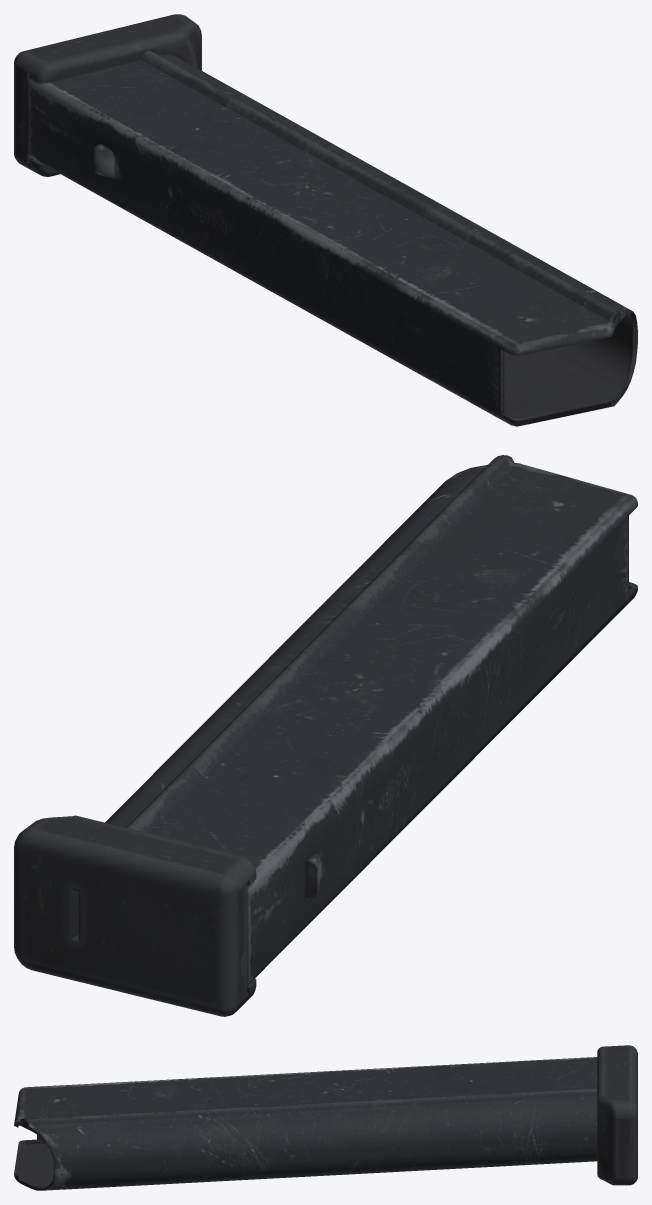
The model's file is Mag380ExtSm_Ground.fbx.
The picture shows the model from 3 angles, top to bottom: view 1: azimuth 30°, elevation 25°; view 2: azimuth 150°, elevation 25°; view 3: azimuth 270°, elevation 25°; orthographic projection. The views are drawn at different scales.
Parts seen in each view (by area): view 1: Mag380Ext; view 2: Mag380Ext; view 3: Mag380Ext.
Part boxes in pixels (x1,y1,x2,y2): Mag380Ext: (14, 14, 637, 426); Mag380Ext: (14, 455, 637, 1016); Mag380Ext: (14, 1045, 637, 1190).
Size of the model in its own units: 0.0349 by 0.0159 by 0.1079.
